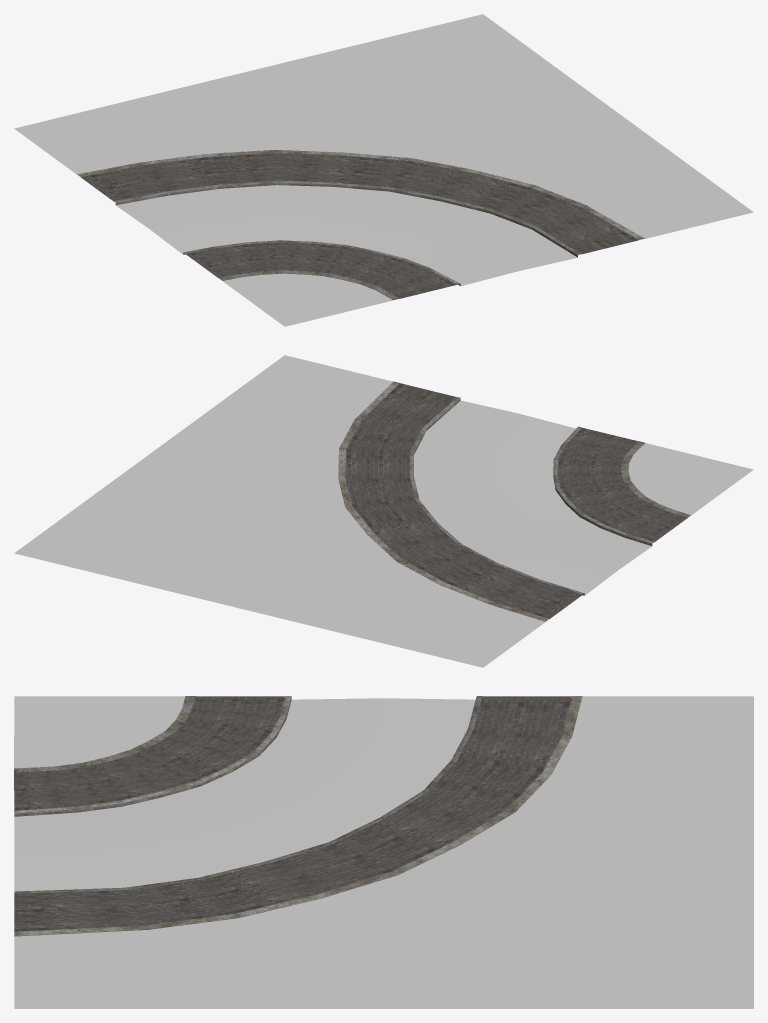
File: Ground_Road_Turn.fbx
The picture shows the model from 3 angles, top to bottom: view 1: azimuth 30°, elevation 25°; view 2: azimuth 150°, elevation 25°; view 3: azimuth 270°, elevation 25°; orthographic projection. The views are drawn at different scales.
Parts seen in each view (by area): view 1: Ground_Road_Turn; view 2: Ground_Road_Turn; view 3: Ground_Road_Turn.
Part boxes in pixels (box(x1,y1,x2,y2)): Ground_Road_Turn: box(14, 14, 753, 326); Ground_Road_Turn: box(14, 355, 753, 667); Ground_Road_Turn: box(14, 696, 753, 1008).
Size of the model in its own units: 2000 by 11.25 by 2001.
